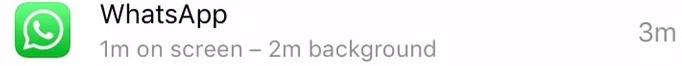name: (90, 1, 241, 32)
time: (95, 35, 135, 62), (267, 37, 306, 63)
